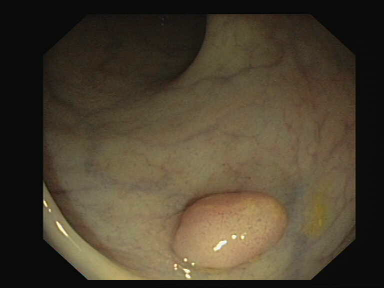polyp: (141, 172, 319, 271)
